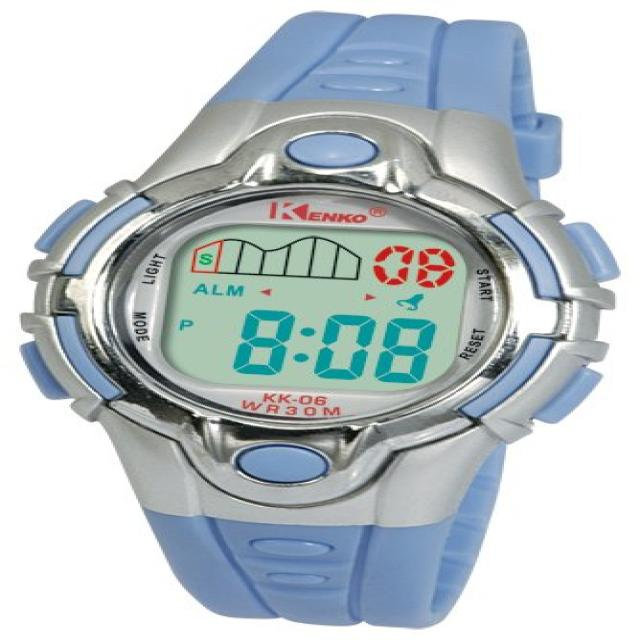watch: (16, 12, 612, 629)
